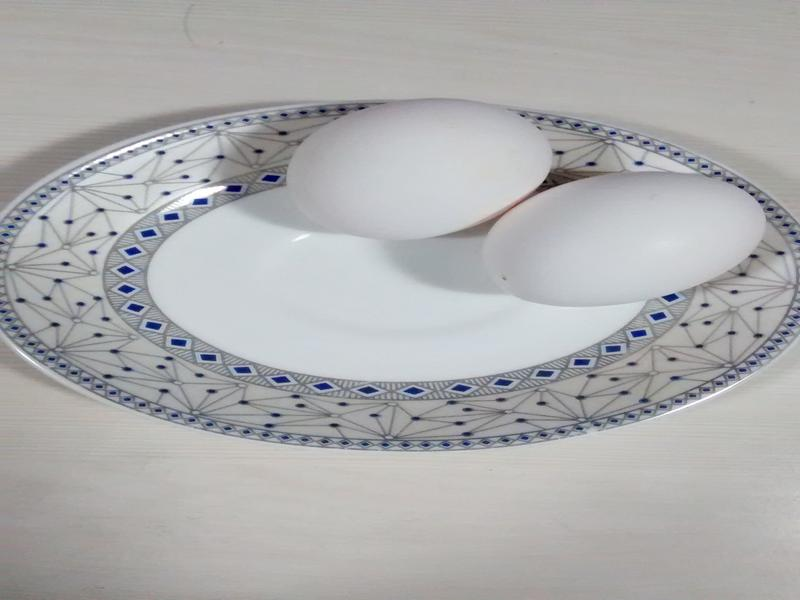egg: (293, 104, 552, 240)
